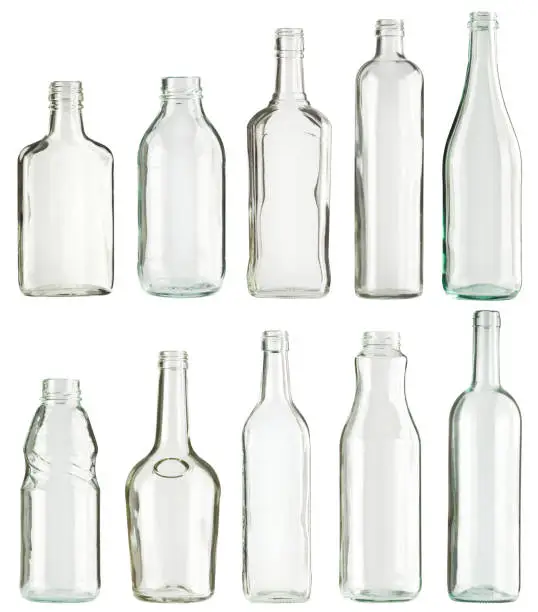glass_bottle: (120, 342, 226, 608), (334, 325, 431, 606), (440, 6, 530, 304), (245, 24, 333, 303), (444, 308, 526, 607), (347, 12, 430, 305), (236, 325, 320, 607), (15, 76, 118, 305), (133, 72, 234, 304), (16, 368, 106, 605)
